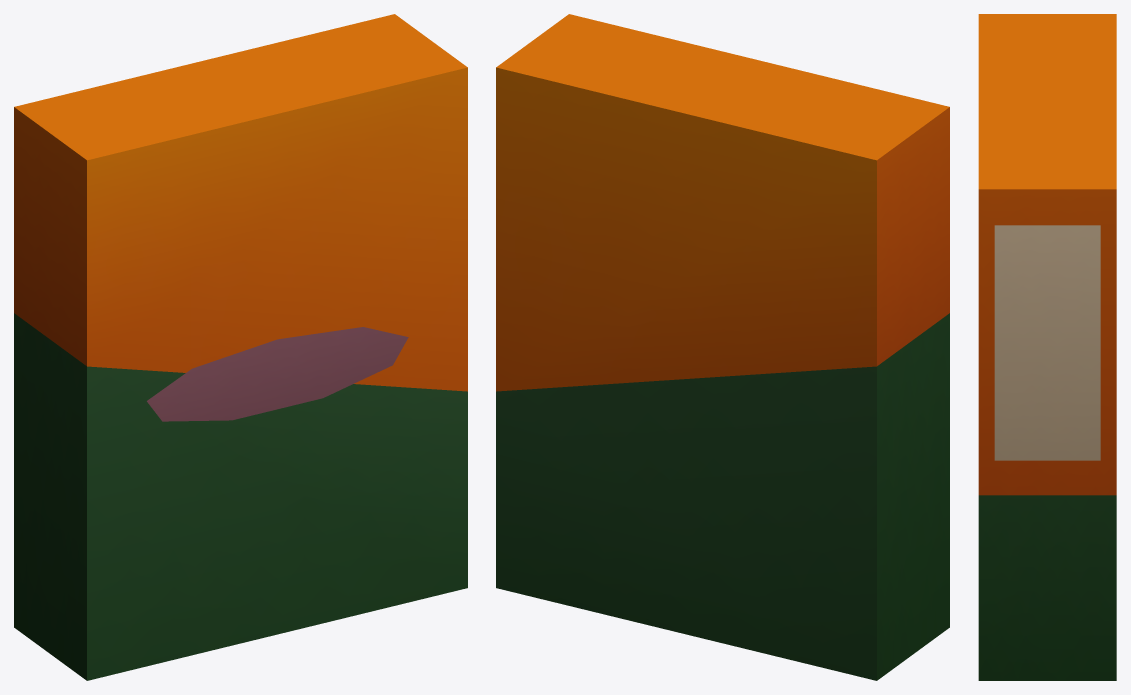
The model's file is TSP_Shelf_Box_01A.fbx.
3 renders of one model, left to right at view 1: azimuth 30°, elevation 25°; view 2: azimuth 150°, elevation 25°; view 3: azimuth 270°, elevation 25°, orthographic. The views are drawn at different scales.
Parts seen in each view (by area): view 1: TSP_Shelf_Box_01A; view 2: TSP_Shelf_Box_01A; view 3: TSP_Shelf_Box_01A.
Part boxes in pixels (<box>): TSP_Shelf_Box_01A: <box>14,14,467,680</box>; TSP_Shelf_Box_01A: <box>496,14,949,680</box>; TSP_Shelf_Box_01A: <box>978,14,1116,680</box>.
Size of the model in its own units: 0.327 by 0.4256 by 0.1085.
